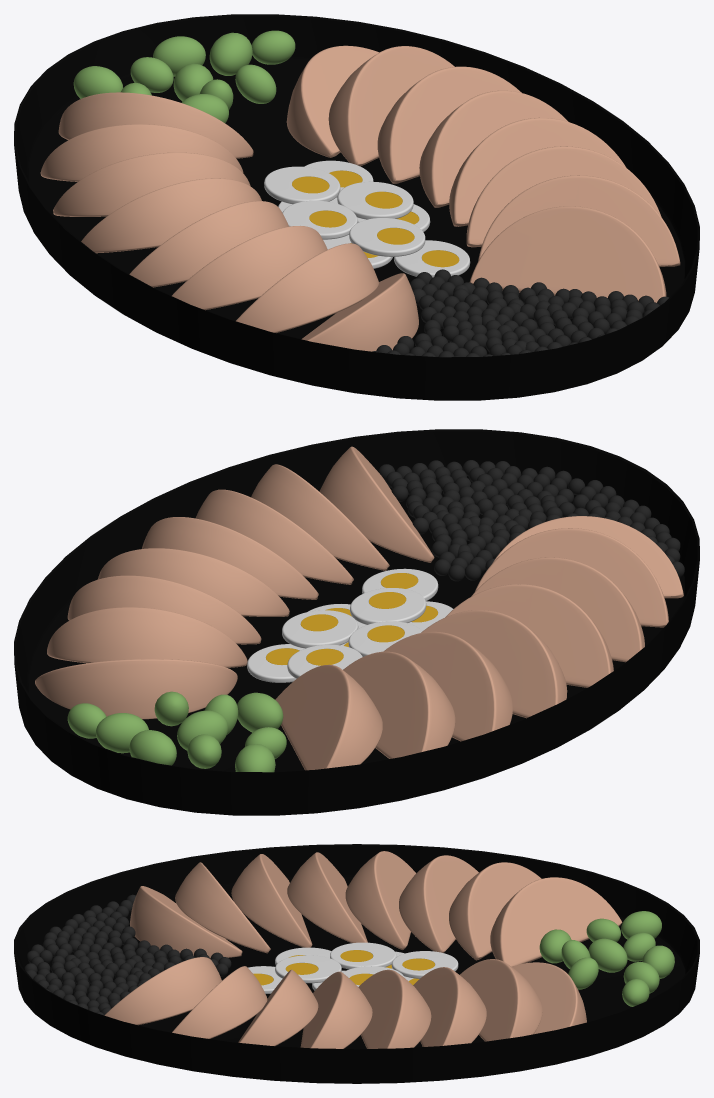
Rendered from ass_pla2_v00_UV.fbx.
The picture shows the model from 3 angles, top to bottom: view 1: azimuth 30°, elevation 25°; view 2: azimuth 150°, elevation 25°; view 3: azimuth 270°, elevation 25°; orthographic projection. The views are drawn at different scales.
Visible parts, largest first — view 1: Plate, pSphere210, polySurface1, pSphere15, polySurface7, pSphere214, polySurface6, pSphere14, polySurface2, pSphere11, polySurface5, pSphere13 (+20 smaller); view 2: Plate, pSphere210, polySurface7, polySurface8, pSphere9, pSphere212, pSphere13, pSphere214, pSphere11, pSphere15, pSphere14, polySurface5 (+23 smaller); view 3: Plate, pSphere210, pSphere9, pSphere11, pSphere212, polySurface7, pSphere214, polySurface1, polySurface5, polySurface6, pSphere14, pSphere13 (+22 smaller).
Part boxes in pixels (<box>): Plate: <box>14,14,699,400</box>; pSphere210: <box>372,269,668,357</box>; polySurface1: <box>469,206,666,302</box>; pSphere15: <box>236,243,378,332</box>; polySurface7: <box>328,46,454,166</box>; pSphere214: <box>81,178,261,253</box>; polySurface6: <box>377,66,521,183</box>; pSphere14: <box>172,226,327,310</box>; polySurface2: <box>478,175,680,266</box>; pSphere11: <box>53,152,250,216</box>; polySurface5: <box>419,90,568,207</box>; pSphere13: <box>129,201,288,287</box>; Plate: <box>14,429,699,815</box>; pSphere210: <box>378,460,684,581</box>; polySurface7: <box>47,607,247,667</box>; polySurface8: <box>35,659,237,719</box>; pSphere9: <box>275,664,382,770</box>; pSphere212: <box>343,651,455,758</box>; pSphere13: <box>445,584,613,687</box>; pSphere214: <box>421,610,567,718</box>; pSphere11: <box>383,631,512,741</box>; pSphere15: <box>475,528,668,627</box>; pSphere14: <box>471,557,644,662</box>; polySurface5: <box>97,548,289,616</box>; Plate: <box>14,844,699,1083</box>; pSphere210: <box>24,894,231,1015</box>; pSphere9: <box>490,877,622,966</box>; pSphere11: <box>399,855,478,952</box>; pSphere212: <box>449,862,541,960</box>; polySurface7: <box>460,959,542,1041</box>; pSphere214: <box>345,851,415,949</box>; polySurface1: <box>104,957,221,1025</box>; polySurface5: <box>358,969,431,1048</box>; polySurface6: <box>413,967,486,1046</box>; pSphere14: <box>231,854,312,947</box>; pSphere13: <box>287,852,367,943</box>.
Size of the model in its own units: 5.03 by 0.7207 by 7.11.
